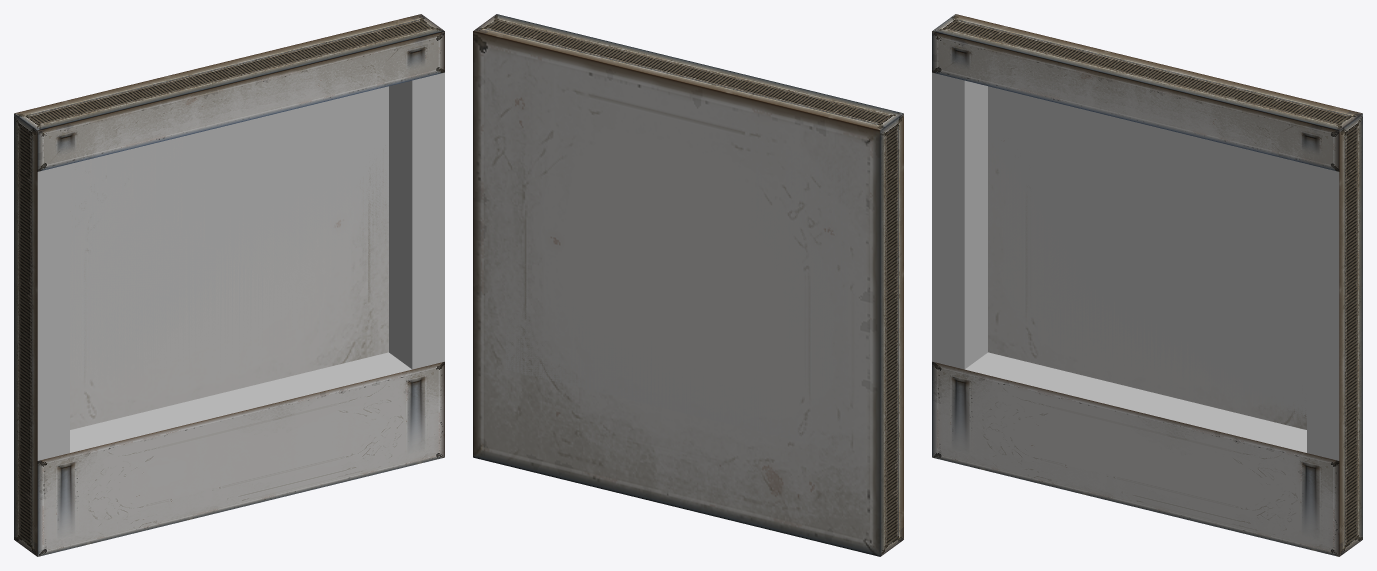
Rendered from scifi_wall3_3.FBX.
The picture shows the model from 3 angles, left to right: view 1: azimuth 30°, elevation 25°; view 2: azimuth 150°, elevation 25°; view 3: azimuth 330°, elevation 25°; orthographic projection.
Parts seen in each view (by area): view 1: Plane017; view 2: Plane017; view 3: Plane017.
Boxes of the visible parts, x1,y1,x2,y2 form: Plane017: (14,14,444,556); Plane017: (473,14,903,556); Plane017: (932,14,1362,556).
Bounding box in the file's own units: 254 × 254 × 25.4.
